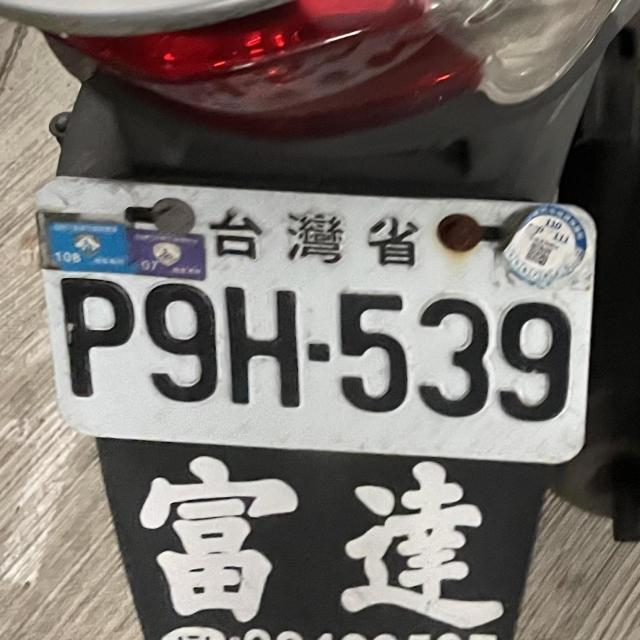W: (33, 176, 600, 469)
